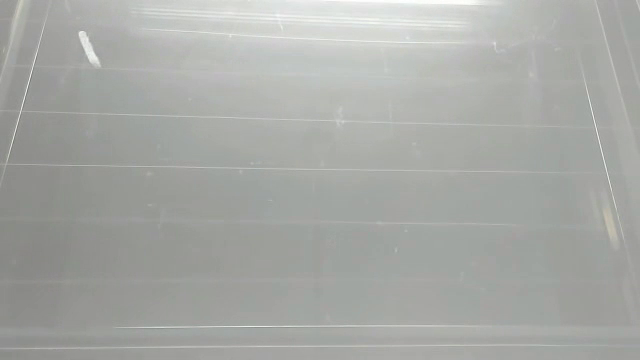alpha: (75, 27, 108, 71)
